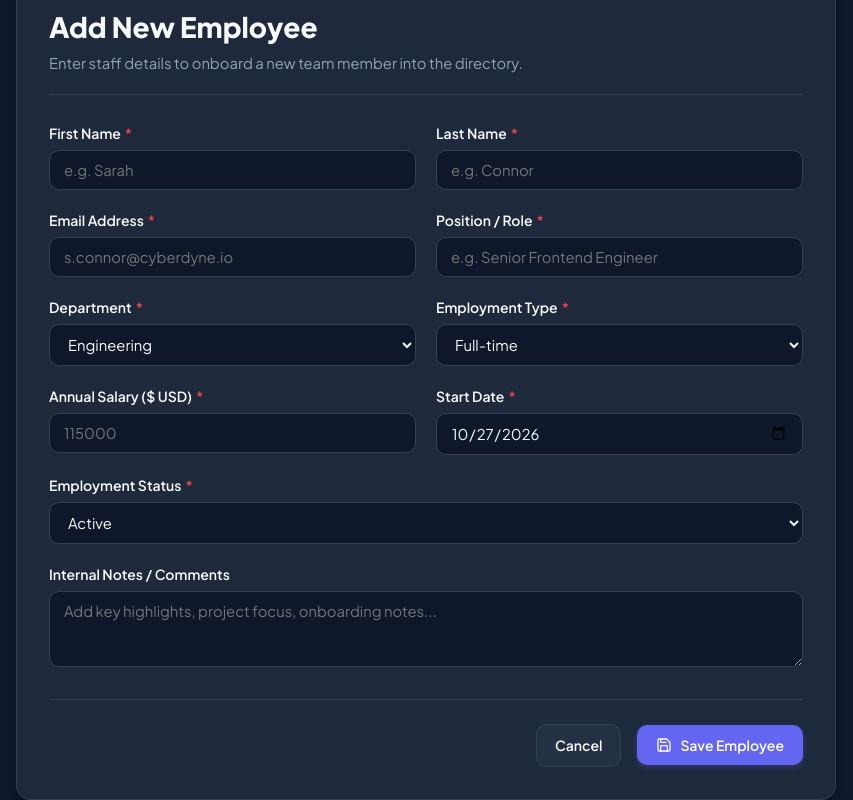
Scenario: EmployeeForm (React Hook Form & Zod Validation) › displays client-side Zod validation errors on empty submission
(page scrolled)
Click the button "Save Employee" at (720, 745), box [638,725,803,765]
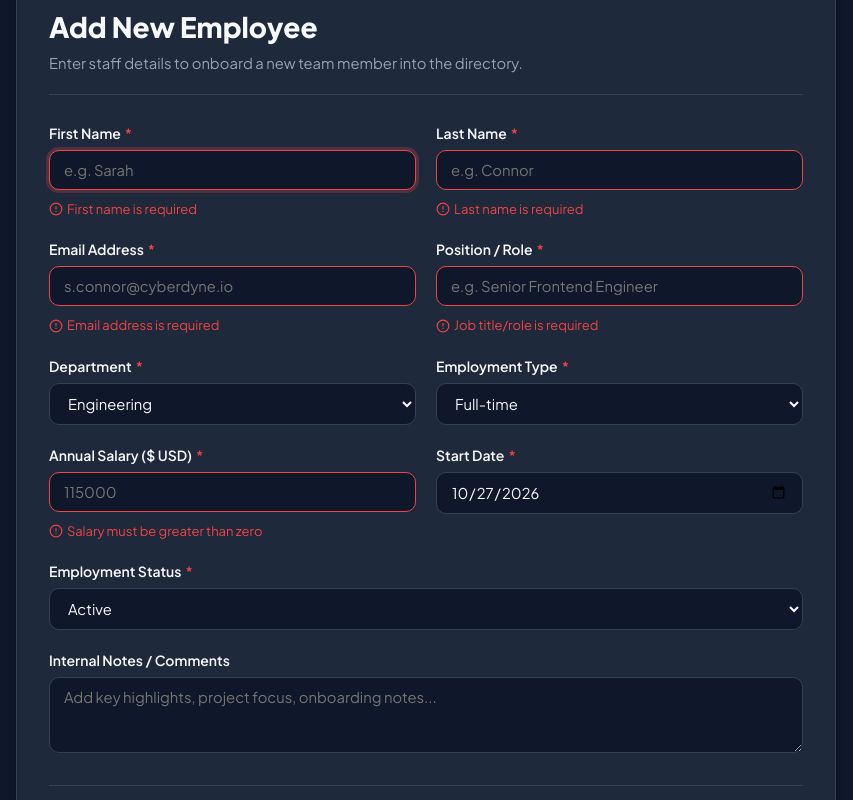
Result: the text "First name is required" is shown at [67,200,197,219]
Result: the text "Last name is required" is shown at [454,200,584,219]
Result: the text "Email address is required" is shown at [67,316,219,336]
